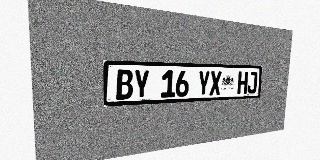1: (161, 70, 176, 98)
6: (175, 70, 189, 97)
B: (116, 69, 133, 100)
H: (237, 71, 248, 94)
J: (247, 72, 258, 94)
X: (209, 71, 222, 95)
Y: (134, 70, 150, 99), (197, 71, 210, 96)
